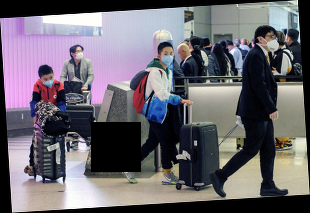with_mask: (263, 33, 280, 52), (161, 50, 175, 66), (40, 75, 54, 88), (73, 48, 85, 60)
